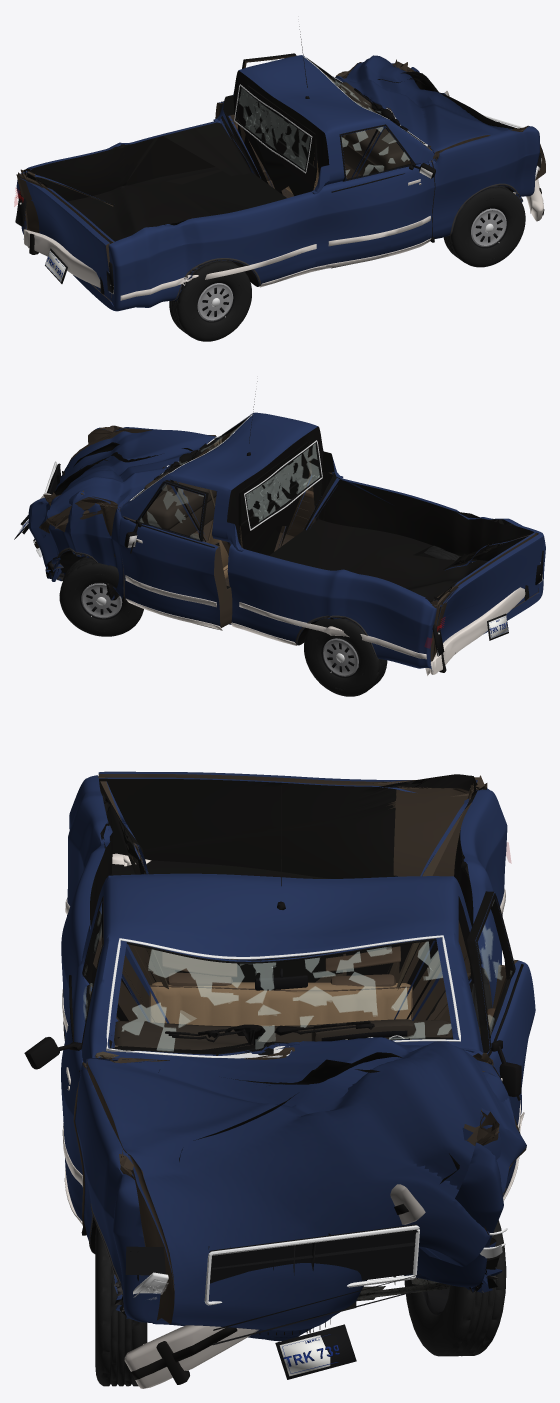
File: pickup87_front_corner_d2_lod1.glb
The picture shows the model from 3 angles, top to bottom: view 1: azimuth 30°, elevation 25°; view 2: azimuth 150°, elevation 25°; view 3: azimuth 270°, elevation 25°; orthographic projection. The views are drawn at different scales.
Parts seen in each view (by area): view 1: Body, Hood, Wheel_RR_mesh, Wheel_FR_mesh, Tailgate, Door_FR, Glass, Interior, Trim, Trim_FR, Bumper_R, Ends (+3 smaller); view 2: Body, Door_FL, Hood, Tailgate, Wheel_RL_mesh, Wheel_FL_mesh, Glass, Interior, Trim, Bumper_R, Trim_FL, Ends (+2 smaller); view 3: Body, Hood, Interior, Ends, Glass, Wheel_FL_mesh, Door_FL, Bumper_F, Wheel_FR_mesh, Door_FR, Trim, Trim_FL (+4 smaller).
Boxes of the visible parts, x1,y1,x2,y2 form: Body: (16,55,539,311); Hood: (336,55,545,180); Wheel_RR_mesh: (169,260,251,341); Wheel_FR_mesh: (443,186,525,267); Tailgate: (16,174,111,301); Door_FR: (324,124,435,264); Glass: (234,56,427,173); Interior: (285,82,408,193); Trim: (120,26,522,300); Trim_FR: (325,124,435,268); Bumper_R: (23,229,104,294); Ends: (15,115,541,294); Body: (28,412,545,670); Door_FL: (119,480,232,627); Hood: (33,430,215,557); Tailgate: (433,533,544,658); Wheel_RL_mesh: (304,618,387,696); Wheel_FL_mesh: (59,557,143,636); Glass: (130,414,322,530); Interior: (141,445,228,578); Trim: (45,381,472,659); Bumper_R: (425,585,529,675); Trim_FL: (123,481,222,630); Ends: (14,461,543,656); Body: (61,774,511,1323); Hood: (86,1037,526,1341); Interior: (114,946,452,1049); Ends: (125,1224,507,1379); Glass: (106,935,460,1058); Wheel_FL_mesh: (404,1220,506,1356); Door_FL: (467,891,535,1196); Bumper_F: (124,1184,425,1388); Wheel_FR_mesh: (95,1226,147,1386); Door_FR: (61,896,103,1226); Trim: (62,786,506,1333); Trim_FL: (476,893,524,1201).
Bounding box in the file's own units: 4.97 × 2.58 × 2.31.
Materials: 34 (5 with a texture image).
